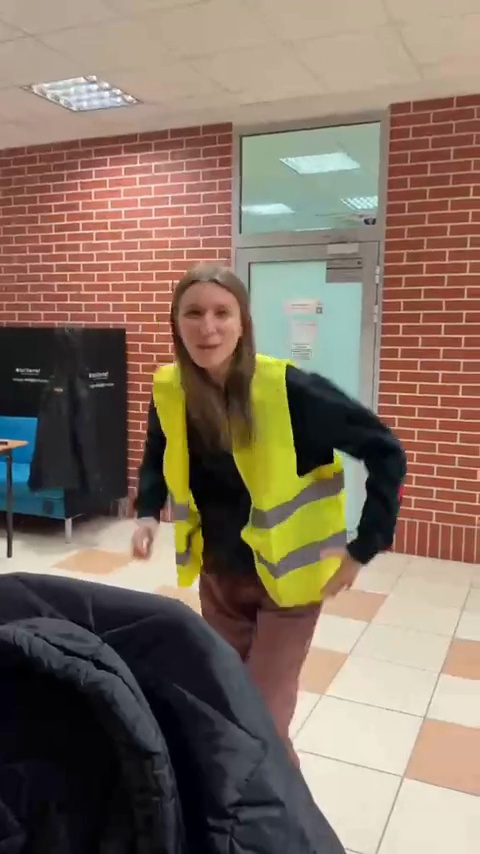vest: (153, 267, 398, 757)
